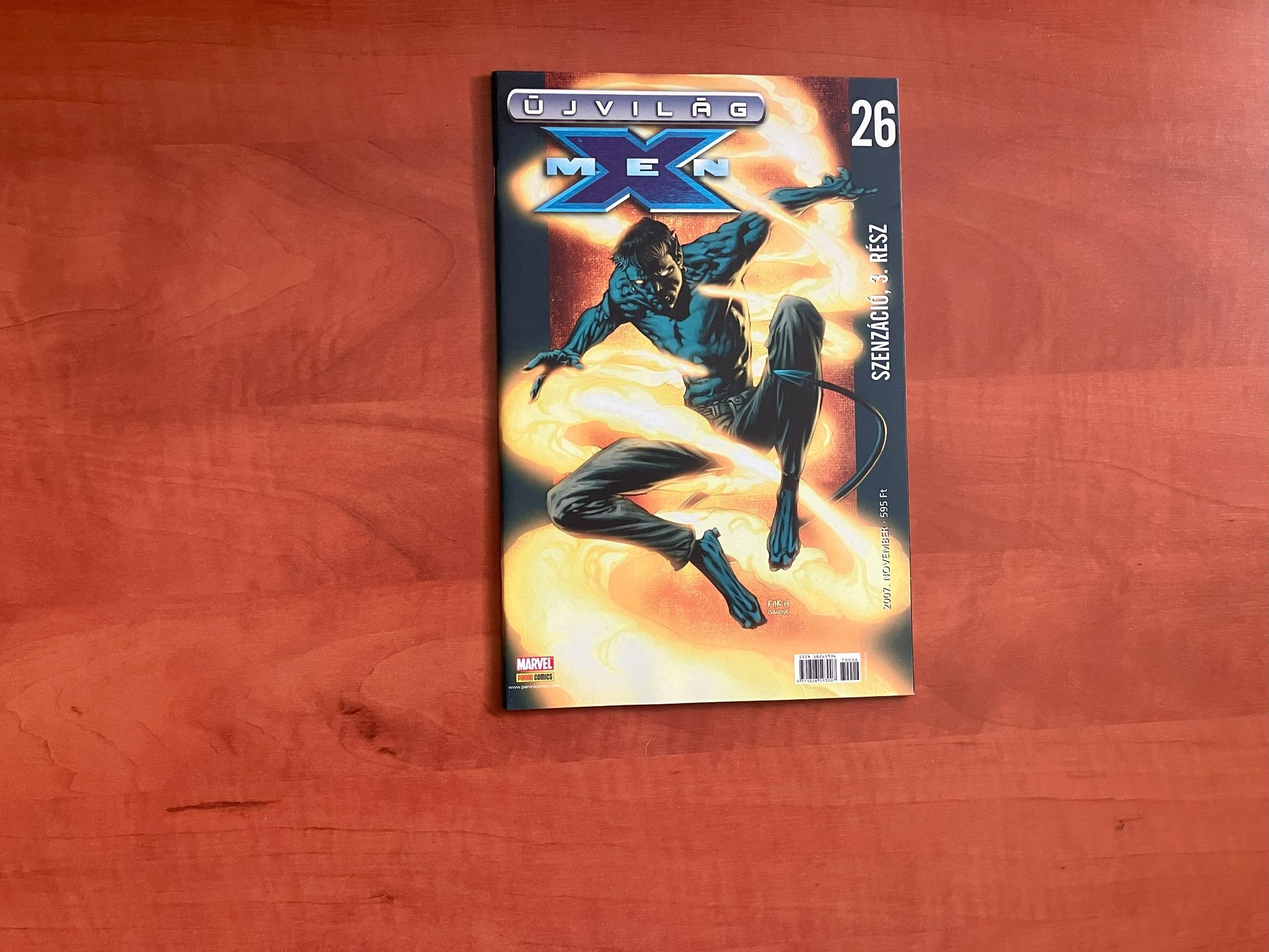comic: (494, 65, 912, 708)
